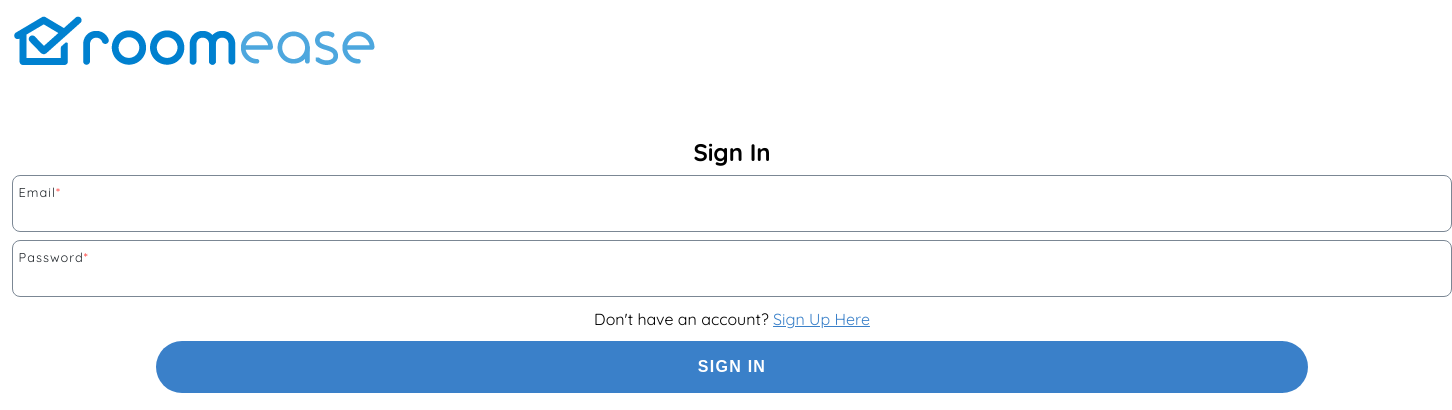
Test case: Sign In Form Validation › should display error for incomplete email field
The image size is (1452, 410).
In the field labelled "Email*": (732, 213) left=17, top=200, right=1447, bottom=227, type "mrkrabs@mrkrabs.com"
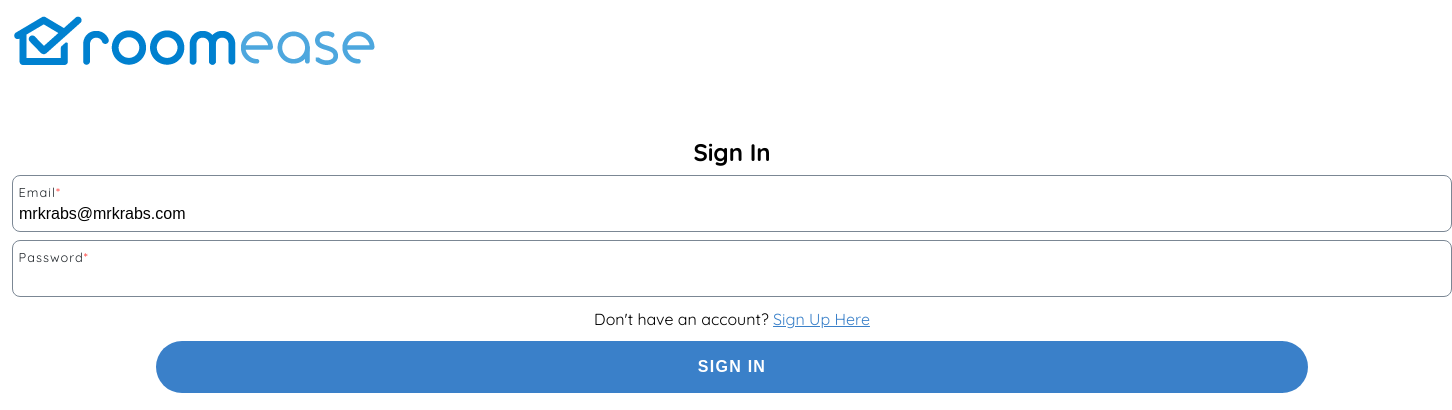
In the password field labelled "Password*": (732, 278) left=17, top=265, right=1447, bottom=292, type "password"
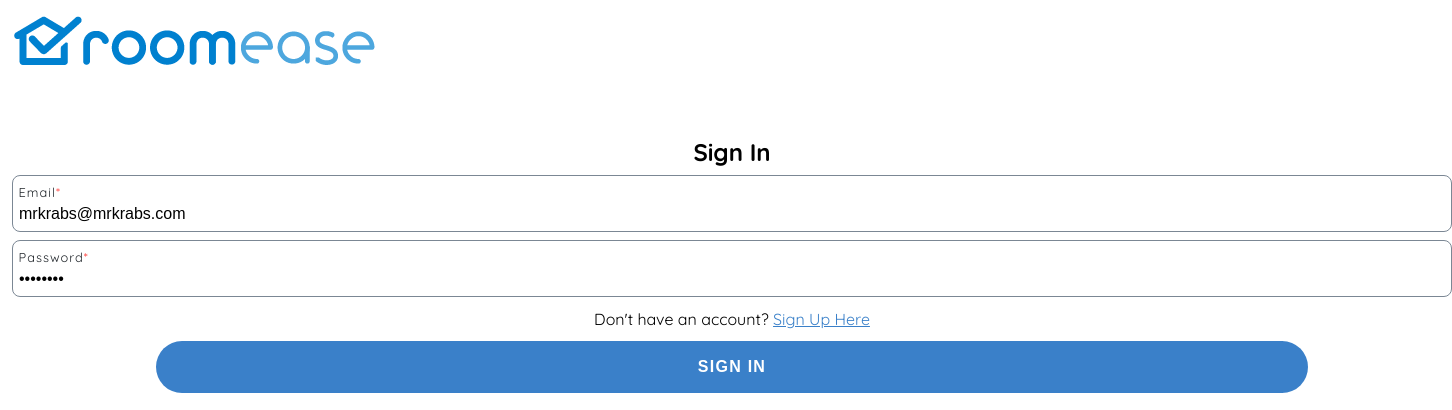
Replace the text in the field labelled "Email*" with "mrkrabs": (732, 213) left=17, top=200, right=1447, bottom=227
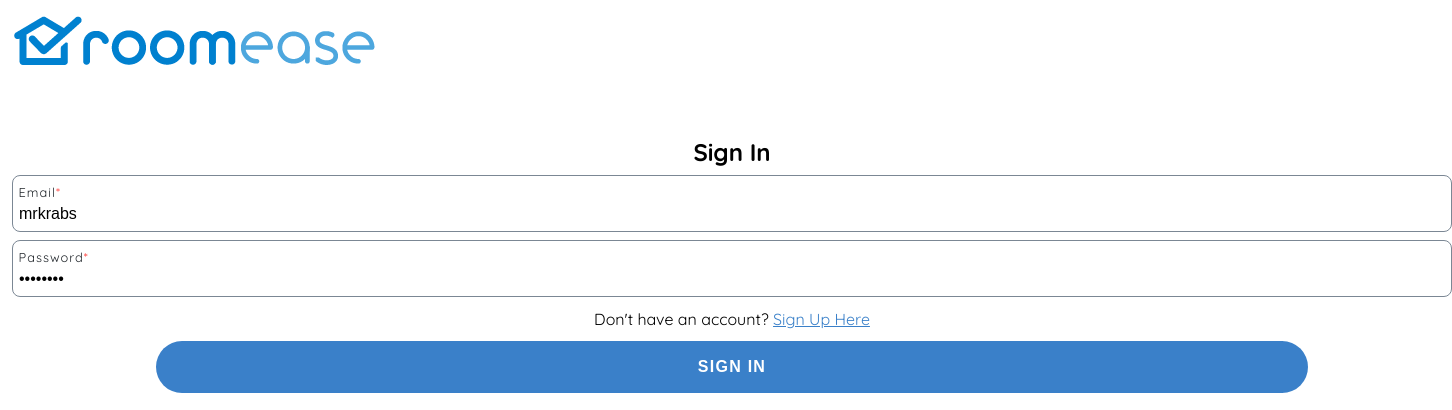
Submit the form from the button "SIGN IN", box left=156, top=341, right=1308, bottom=393
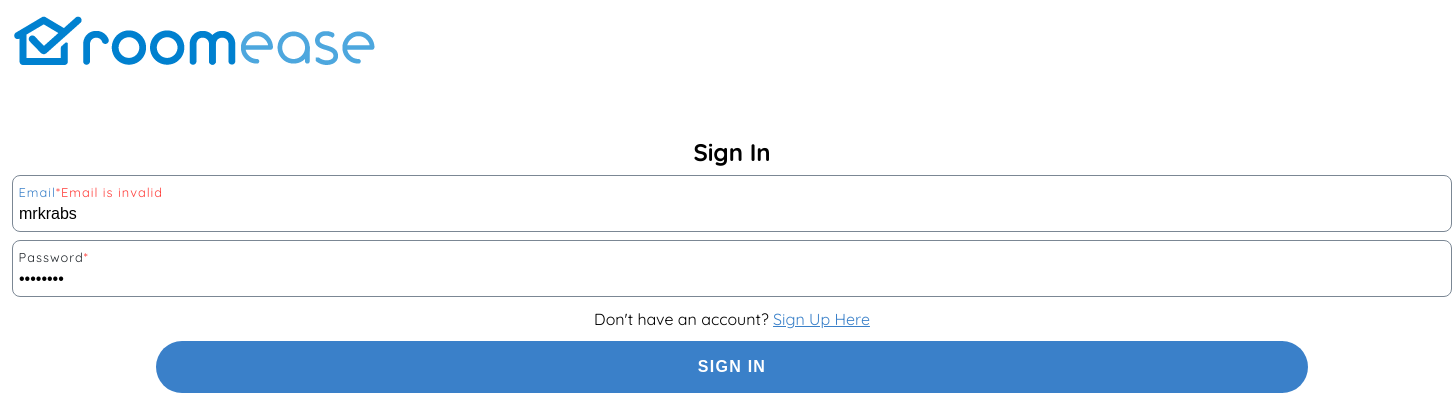
Expected: the number of messages is 1, left=61, top=184, right=163, bottom=200
